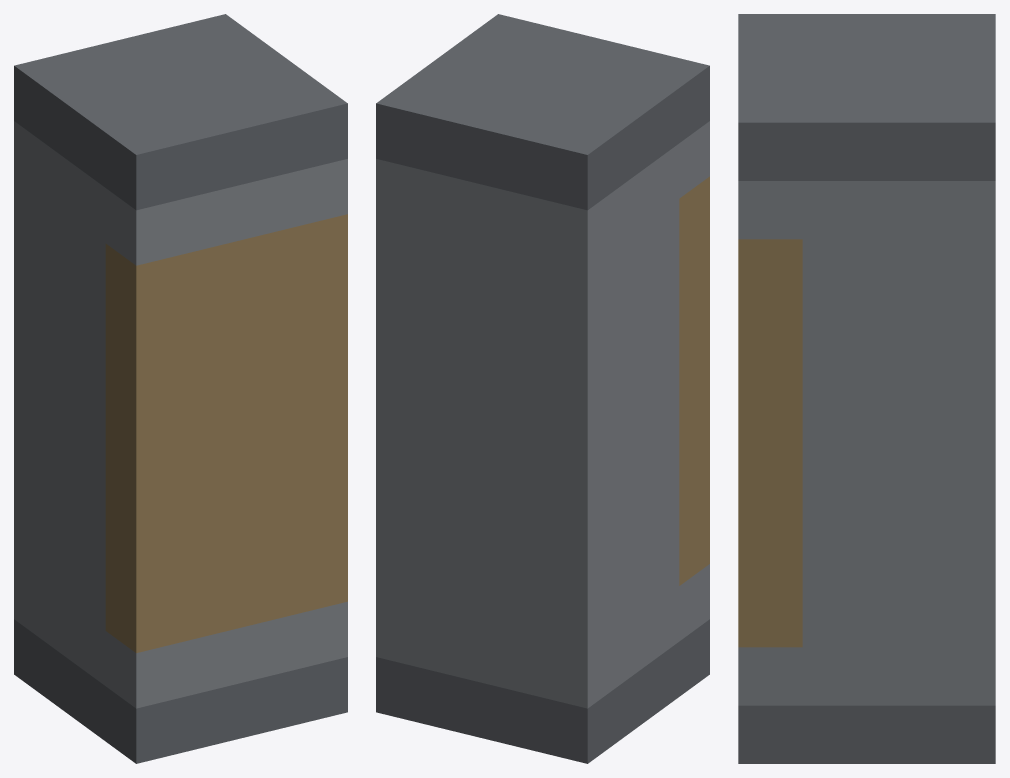
Rendered from left_shin.glb.
3 renders of one model, left to right at view 1: azimuth 30°, elevation 25°; view 2: azimuth 150°, elevation 25°; view 3: azimuth 270°, elevation 25°, orthographic. The views are drawn at different scales.
Bounding box in the file's own units: 4 × 11 × 4.
